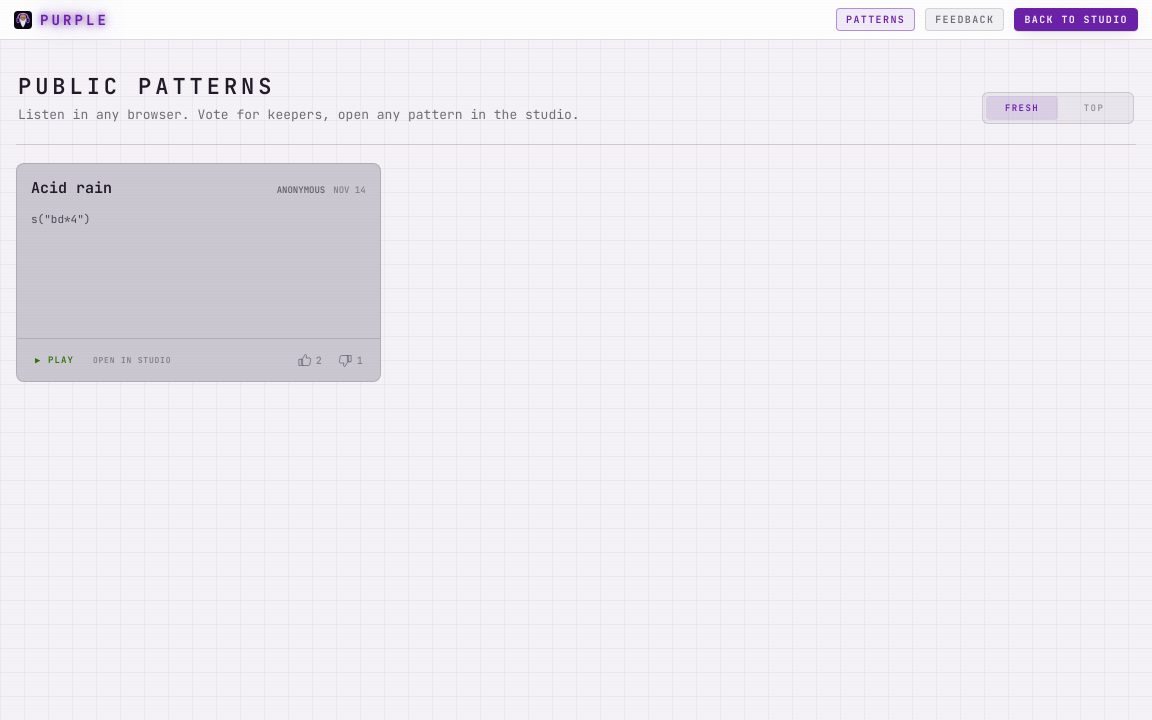
Test: public pattern gallery › restores a saved pattern when Dislike fails
Click the button named "Dislike Acid rain". click: (350, 360)
box: 331,348 -> 370,373
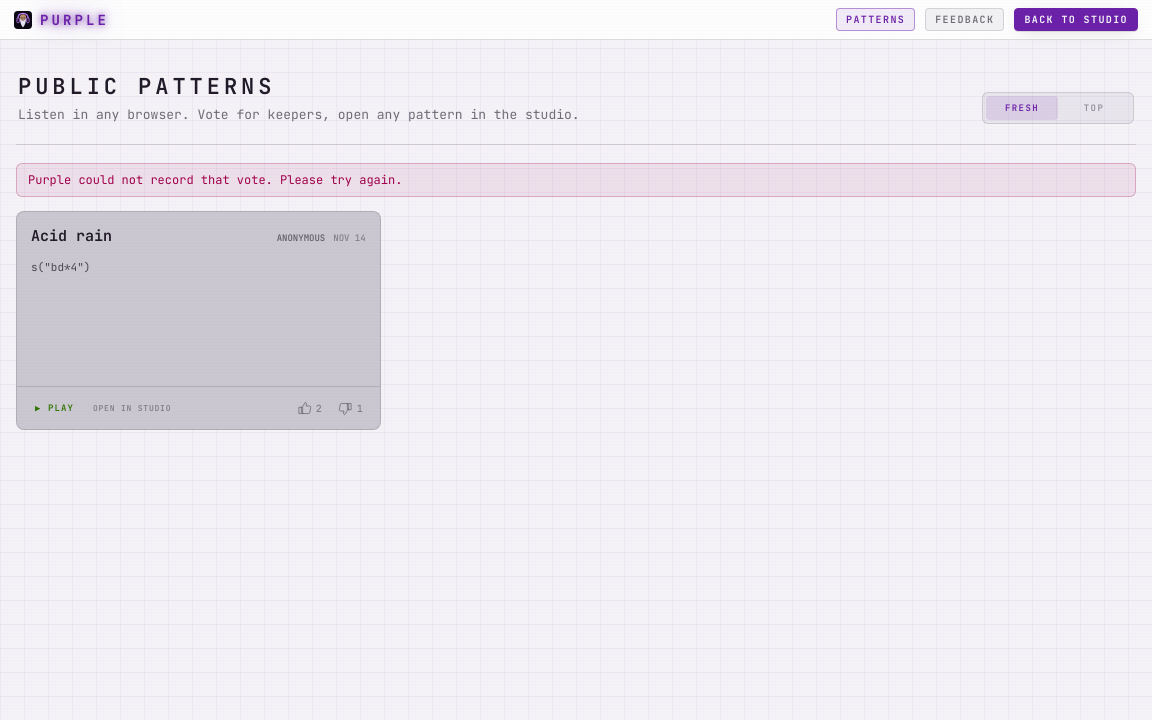
Expected: the message reads "Purple could not record that vote. Please try again.", 28,172 -> 402,188
